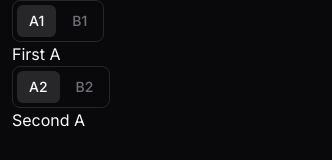
it: AT-040 Tabs multiple groups › generates distinct prefixes and avoids duplicate ids across independent groups
Expected: the panel "First A" is shown, [12, 44, 61, 64]
Expected: the panel "Second A" is shown, [12, 110, 85, 130]
Click the tab "B2".
click(84, 87)  # box [64, 71, 105, 103]
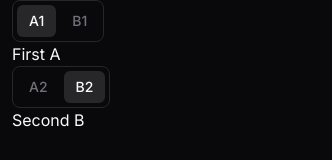
Expected: the panel named "A1" reads "First A", [12, 44, 61, 64]
Result: the panel named "B2" reads "Second B" at [12, 110, 84, 130]
